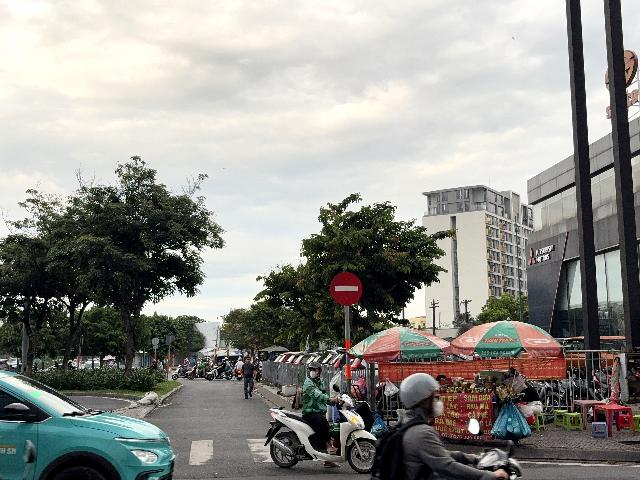cam-di-nguoc-chieu: (330, 272, 362, 307)
